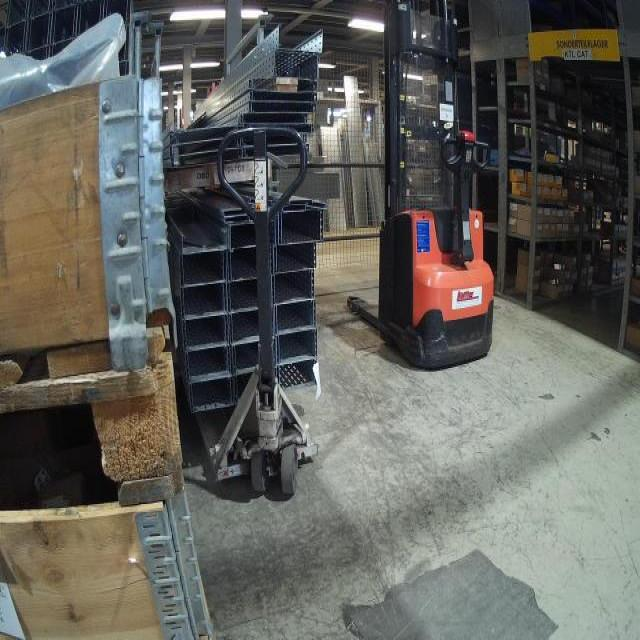pallet: (0, 353, 187, 516)
pallet_truck: (344, 3, 498, 381), (193, 125, 322, 503)
